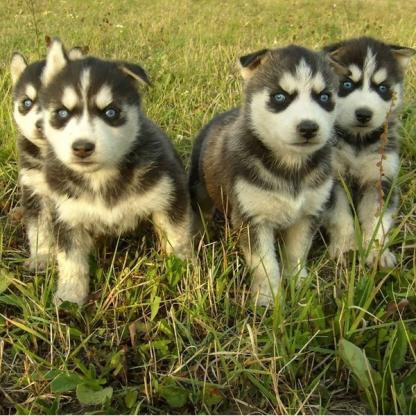dog: (38, 41, 191, 333), (191, 46, 339, 309), (323, 42, 414, 270), (11, 50, 92, 266)
